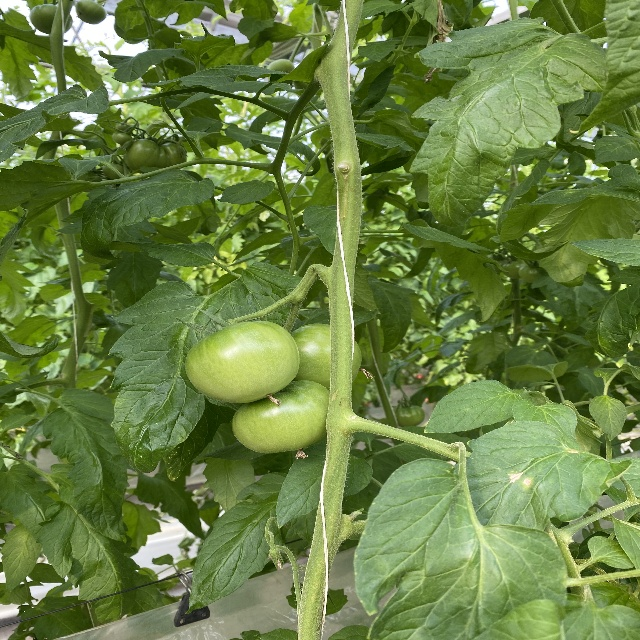b_green: (184, 321, 300, 404), (231, 380, 331, 453), (290, 323, 361, 393), (123, 139, 188, 174), (30, 3, 74, 34), (75, 0, 107, 24), (113, 131, 133, 146)
